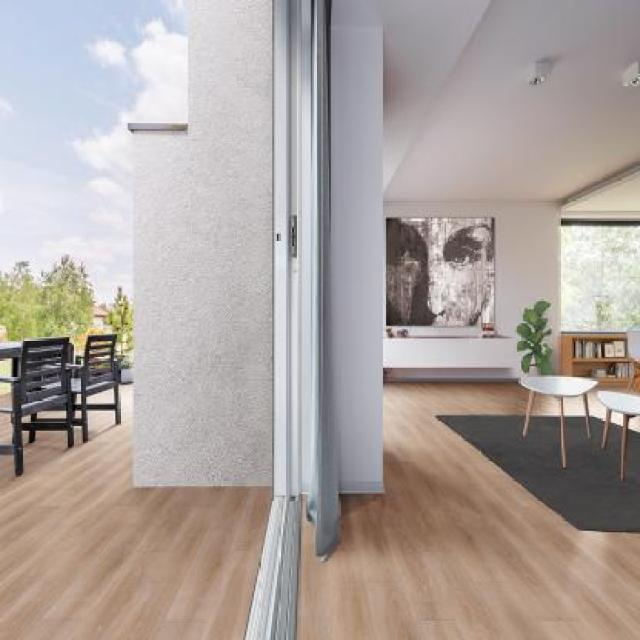floor: (301, 380, 640, 638), (0, 404, 275, 640)
